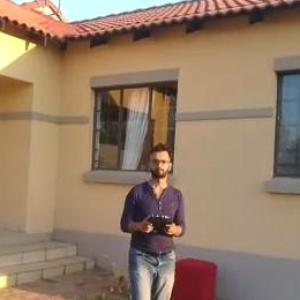follow: (110, 138, 190, 299)
